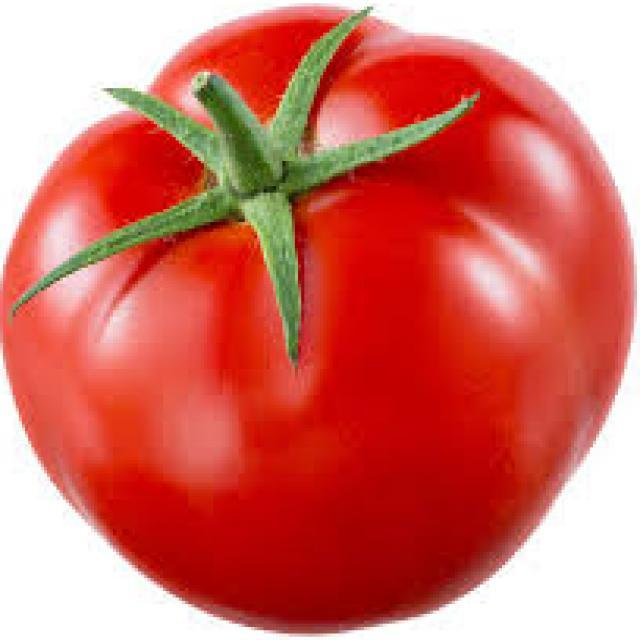Healthy: (14, 5, 640, 640)
